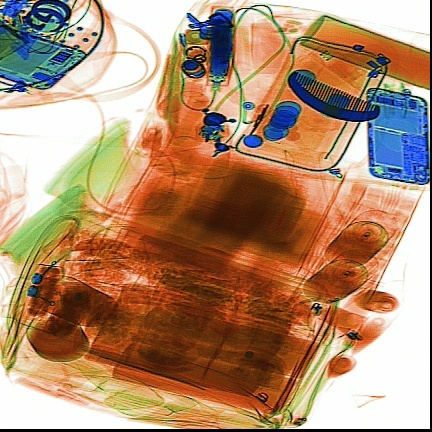pressure: (295, 11, 427, 87)
